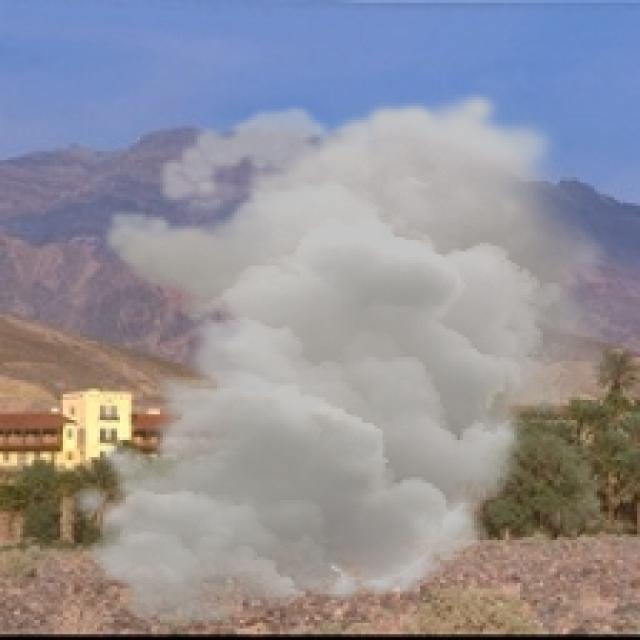smoke: (66, 89, 628, 628)
